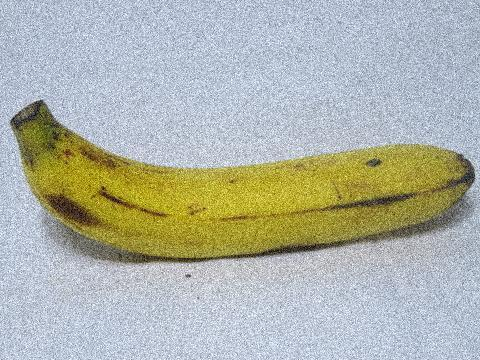ripe: (14, 84, 479, 275)
